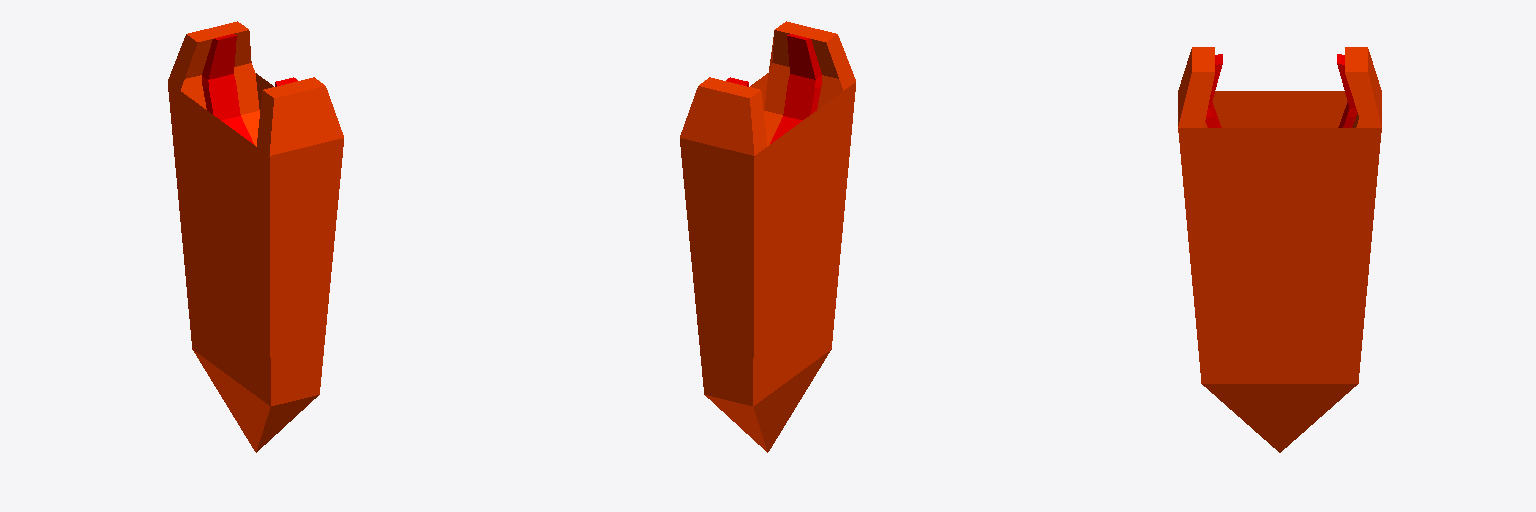
Rendered from monolith.obj.
3 views of the same model, side by side, from view 1: azimuth 30°, elevation 25°; view 2: azimuth 150°, elevation 25°; view 3: azimuth 270°, elevation 25° (orthographic).
Parts seen in each view (by area): view 1: Monolith; view 2: Monolith; view 3: Monolith.
Boxes of the visible parts, x1=… form: Monolith: x1=168, y1=21, x2=343, y2=452; Monolith: x1=680, y1=21, x2=855, y2=452; Monolith: x1=1178, y1=47, x2=1381, y2=452.
Bounding box in the file's own units: 2 × 10.06 × 4.71.